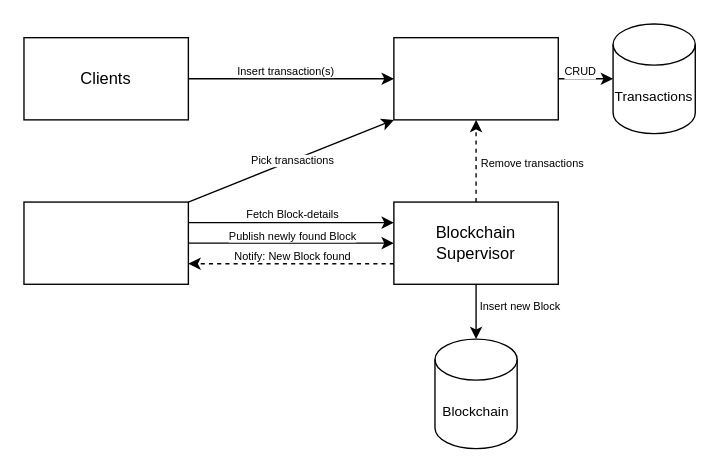
This 719x473 diagram has some shape labels left out. Each missing label, with the box of its shape:
Miners: (23, 201, 188, 284)
Transaction Pool: (393, 36, 558, 120)
